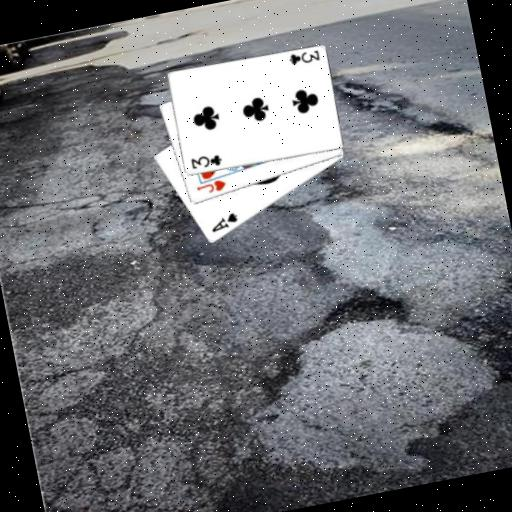3C: (187, 150, 225, 173), (285, 46, 322, 69)
AS: (206, 209, 241, 235)
JH: (193, 176, 229, 198)
